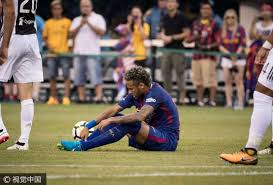10+: (1, 1, 273, 165)
down: (65, 69, 181, 160)
